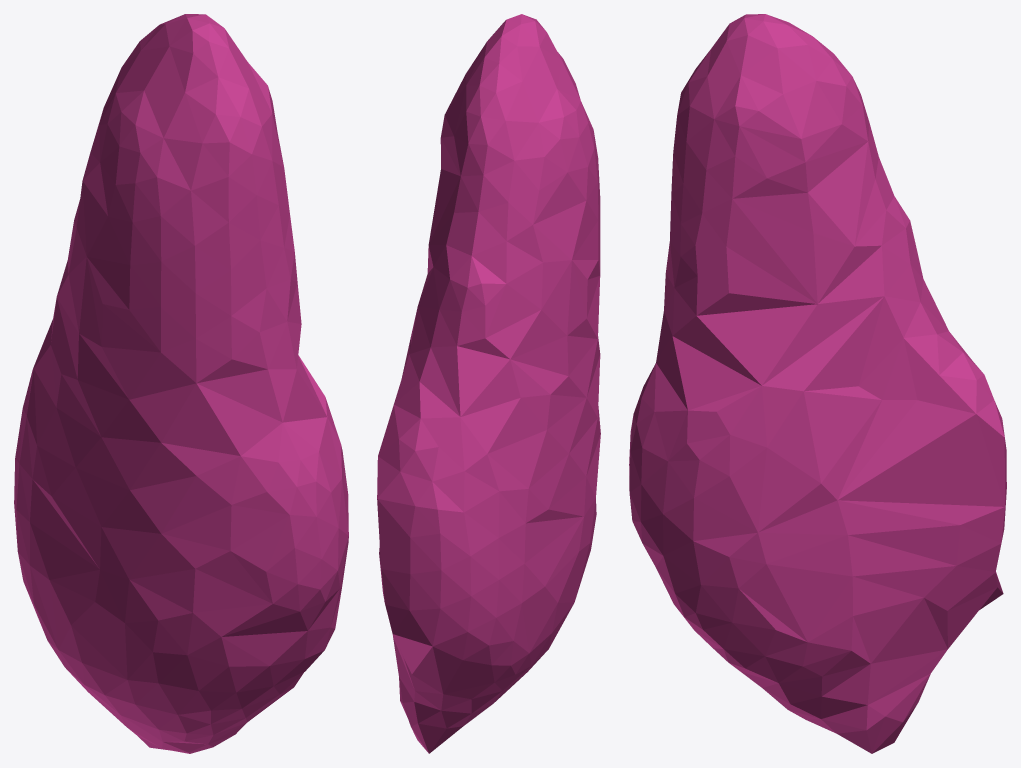
The model's file is Model_420_RH__Occulomotor_nucleus_(3N).obj.
The picture shows the model from 3 angles, left to right: view 1: azimuth 30°, elevation 25°; view 2: azimuth 150°, elevation 25°; view 3: azimuth 270°, elevation 25°; orthographic projection. The views are drawn at different scales.
Size of the model in its own units: 0.499 by 1.75 by 0.8402.
